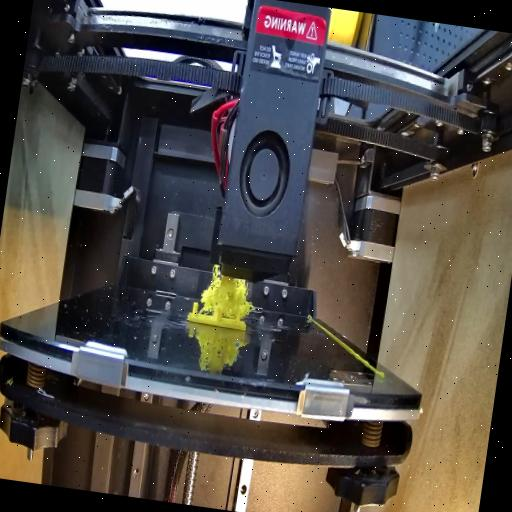spaghetti: (197, 266, 256, 320)
